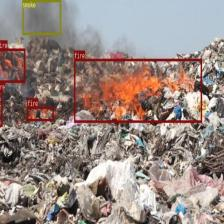fire: (74, 58, 201, 122), (0, 48, 25, 82), (27, 106, 53, 121), (0, 89, 2, 126)
smoke: (22, 0, 61, 34)
